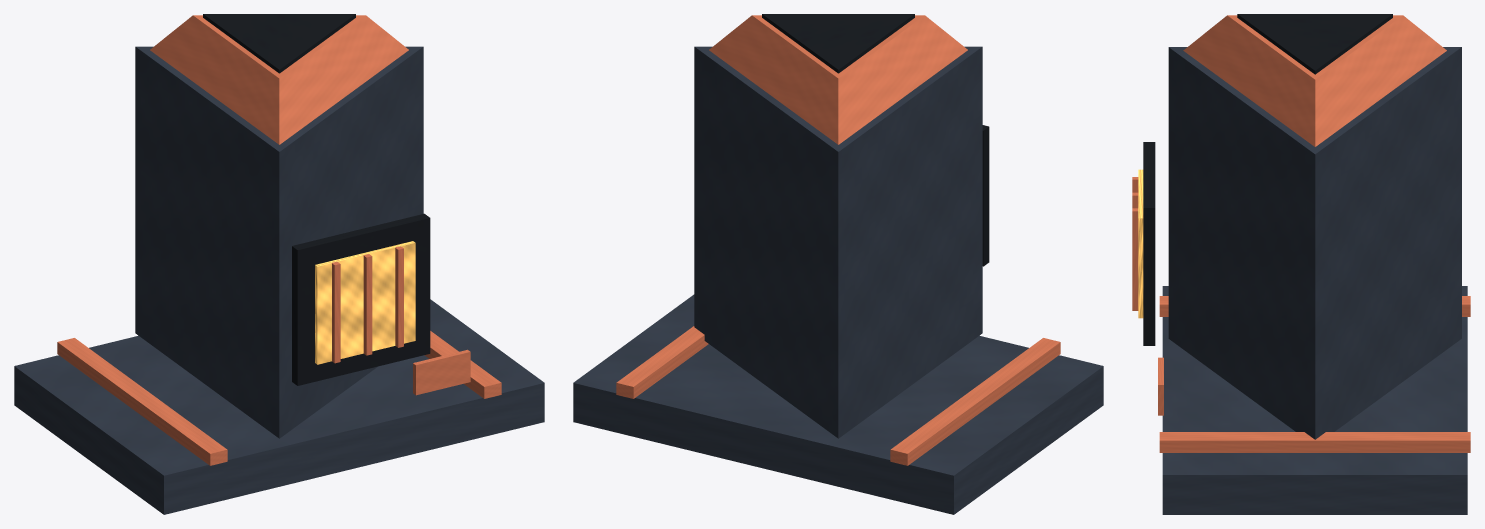
Rendered from atlas100-s022-a01.lod2.glb.
3 views of the same model, side by side, from view 1: azimuth 30°, elevation 25°; view 2: azimuth 150°, elevation 25°; view 3: azimuth 270°, elevation 25° (orthographic).
Visible parts, largest first — view 1: atlas100-s022-a01:part-003, atlas100-s022-a01:part-000, atlas100-s022-a01:part-004, atlas100-s022-a01:part-006, atlas100-s022-a01:part-007, atlas100-s022-a01:part-005, atlas100-s022-a01:part-001, atlas100-s022-a01:part-011, atlas100-s022-a01:part-002, atlas100-s022-a01:part-009, atlas100-s022-a01:part-008, atlas100-s022-a01:part-010; view 2: atlas100-s022-a01:part-003, atlas100-s022-a01:part-000, atlas100-s022-a01:part-004, atlas100-s022-a01:part-005, atlas100-s022-a01:part-001, atlas100-s022-a01:part-002, atlas100-s022-a01:part-006; view 3: atlas100-s022-a01:part-003, atlas100-s022-a01:part-000, atlas100-s022-a01:part-004, atlas100-s022-a01:part-002, atlas100-s022-a01:part-005, atlas100-s022-a01:part-006, atlas100-s022-a01:part-007, atlas100-s022-a01:part-010, atlas100-s022-a01:part-001.
Boxes of the visible parts, x1=… form: atlas100-s022-a01:part-003: x1=135, y1=46, x2=423, y2=438; atlas100-s022-a01:part-000: x1=14, y1=299, x2=544, y2=514; atlas100-s022-a01:part-004: x1=150, y1=15, x2=408, y2=144; atlas100-s022-a01:part-006: x1=292, y1=213, x2=430, y2=385; atlas100-s022-a01:part-007: x1=315, y1=241, x2=415, y2=364; atlas100-s022-a01:part-005: x1=203, y1=14, x2=355, y2=73; atlas100-s022-a01:part-001: x1=57, y1=338, x2=227, y2=465; atlas100-s022-a01:part-011: x1=413, y1=349, x2=470, y2=395; atlas100-s022-a01:part-002: x1=424, y1=331, x2=501, y2=398; atlas100-s022-a01:part-009: x1=363, y1=254, x2=372, y2=355; atlas100-s022-a01:part-008: x1=332, y1=261, x2=340, y2=363; atlas100-s022-a01:part-010: x1=395, y1=246, x2=403, y2=347; atlas100-s022-a01:part-003: x1=694, y1=46, x2=982, y2=438; atlas100-s022-a01:part-000: x1=573, y1=294, x2=1103, y2=514; atlas100-s022-a01:part-004: x1=709, y1=15, x2=967, y2=144; atlas100-s022-a01:part-005: x1=762, y1=14, x2=914, y2=73; atlas100-s022-a01:part-001: x1=890, y1=338, x2=1060, y2=465; atlas100-s022-a01:part-002: x1=616, y1=326, x2=708, y2=398; atlas100-s022-a01:part-006: x1=982, y1=125, x2=989, y2=266; atlas100-s022-a01:part-003: x1=1168, y1=47, x2=1461, y2=439; atlas100-s022-a01:part-000: x1=1162, y1=286, x2=1467, y2=514; atlas100-s022-a01:part-004: x1=1183, y1=15, x2=1446, y2=146; atlas100-s022-a01:part-002: x1=1159, y1=432, x2=1470, y2=452; atlas100-s022-a01:part-005: x1=1237, y1=14, x2=1392, y2=74; atlas100-s022-a01:part-006: x1=1143, y1=142, x2=1155, y2=345; atlas100-s022-a01:part-007: x1=1138, y1=169, x2=1143, y2=318; atlas100-s022-a01:part-010: x1=1132, y1=208, x2=1138, y2=310; atlas100-s022-a01:part-001: x1=1159, y1=296, x2=1470, y2=316.
Size of the model in its own units: 2.64 by 2.53 by 2.
Materials: 4 (4 with a texture image).
